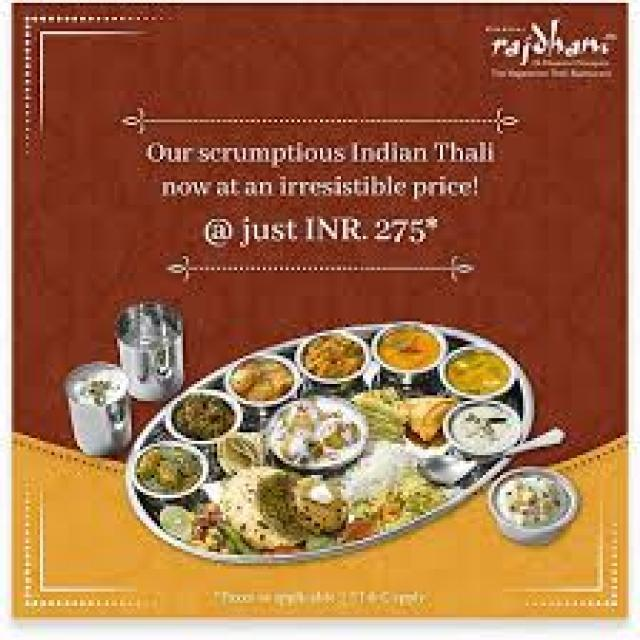curd: (451, 398, 534, 457)
dal: (374, 319, 447, 374), (442, 346, 517, 399)
papad: (217, 452, 358, 557)
raita: (255, 393, 369, 473), (445, 396, 536, 458)
roti: (217, 451, 350, 558)
sweet: (132, 445, 208, 502)
